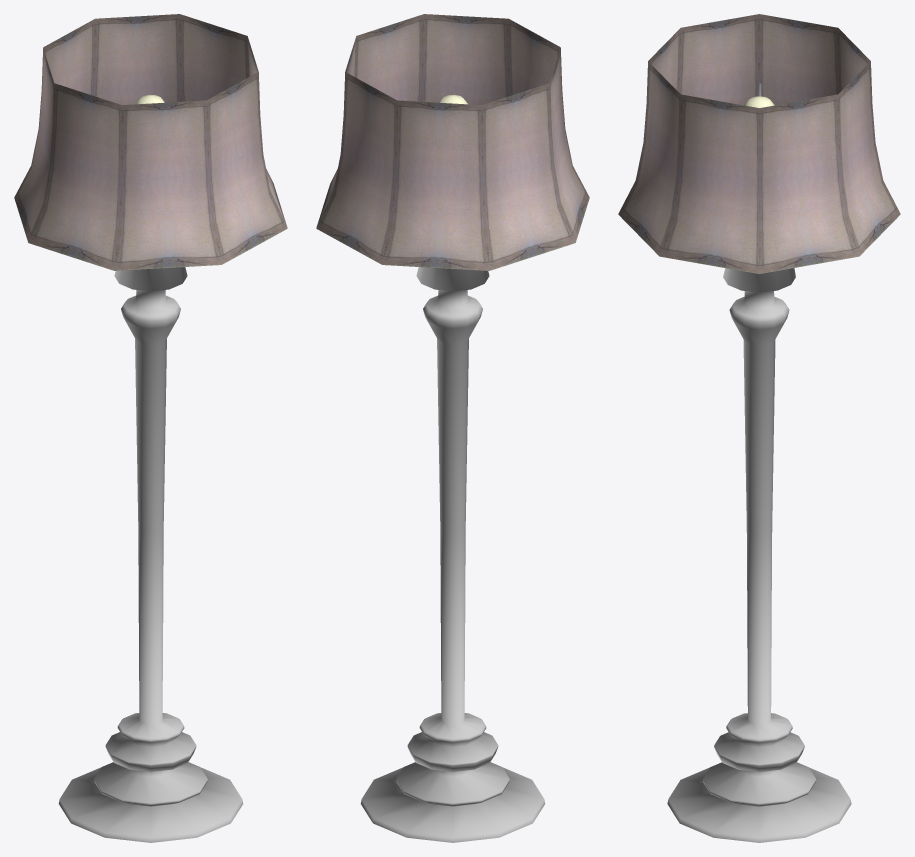
File: Lamp.fbx
3 views of the same model, side by side, from view 1: azimuth 30°, elevation 25°; view 2: azimuth 150°, elevation 25°; view 3: azimuth 270°, elevation 25° (orthographic).
Visible parts, largest first — view 1: Sphere.1; view 2: Sphere.1; view 3: Sphere.1.
Boxes of the visible parts, x1,y1,x2,y2 form: Sphere.1: [14, 14, 287, 842]; Sphere.1: [316, 14, 589, 842]; Sphere.1: [618, 14, 900, 842].
Bounding box in the file's own units: 85.58 × 248 × 85.58.
